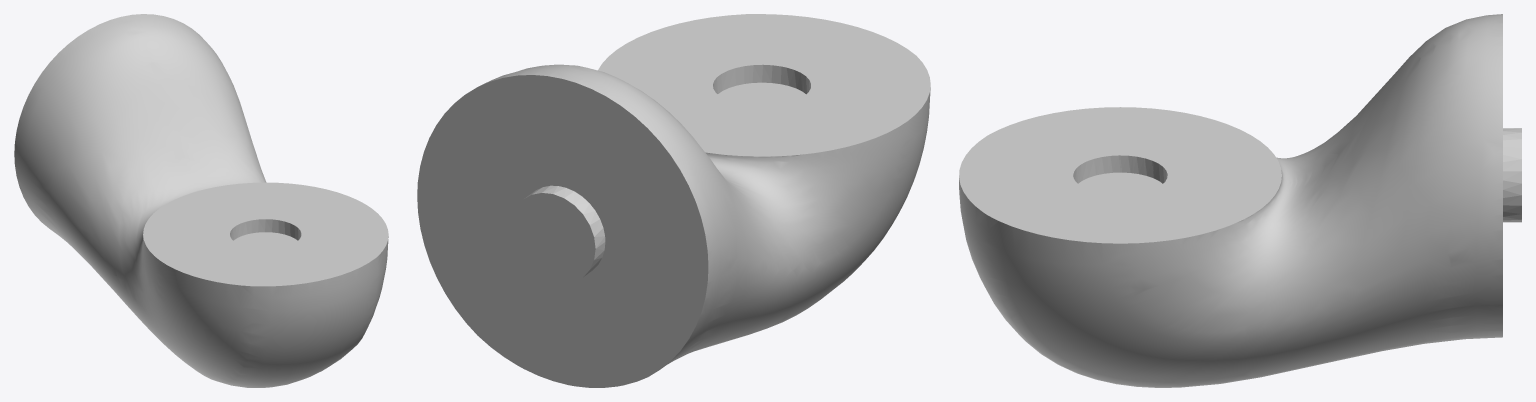
3 views of the same model, side by side, from view 1: azimuth 30°, elevation 25°; view 2: azimuth 150°, elevation 25°; view 3: azimuth 270°, elevation 25° (orthographic). The views are drawn at different scales.
Visible parts, largest first — view 1: Link1_14_ShapeIndexedFaceSet.002; view 2: Link1_14_ShapeIndexedFaceSet.002; view 3: Link1_14_ShapeIndexedFaceSet.002.
Boxes of the visible parts, <box> form: Link1_14_ShapeIndexedFaceSet.002: <box>14,14,388,387</box>; Link1_14_ShapeIndexedFaceSet.002: <box>417,14,930,387</box>; Link1_14_ShapeIndexedFaceSet.002: <box>959,14,1521,387</box>.
Bounding box in the file's own units: 0.171 × 0.2012 × 0.298.
Materials: 1 (1 with a texture image).
